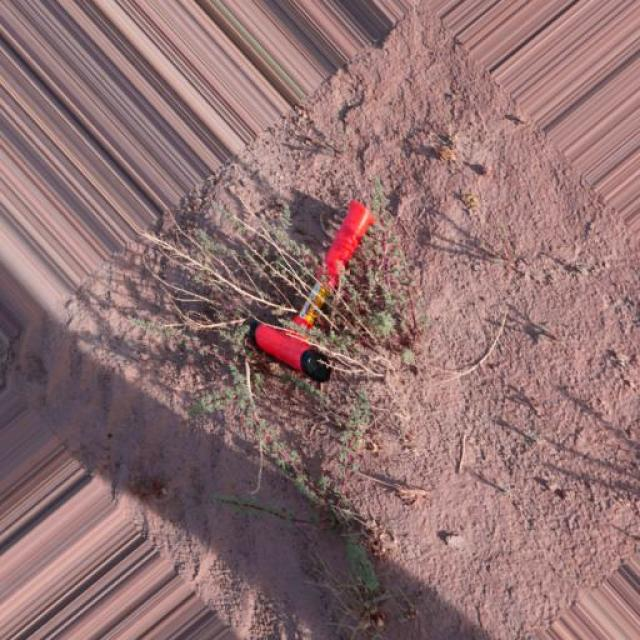mallet: (294, 198, 376, 328)
